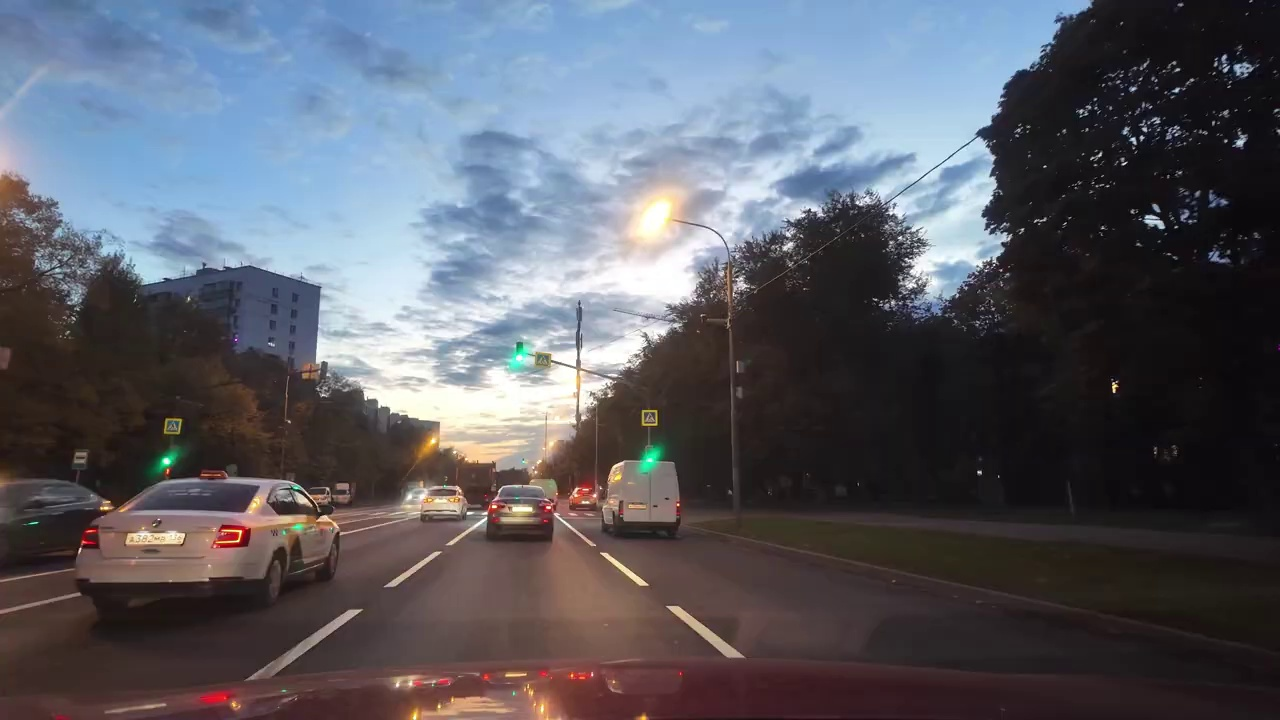acesa: (632, 194, 683, 247)
